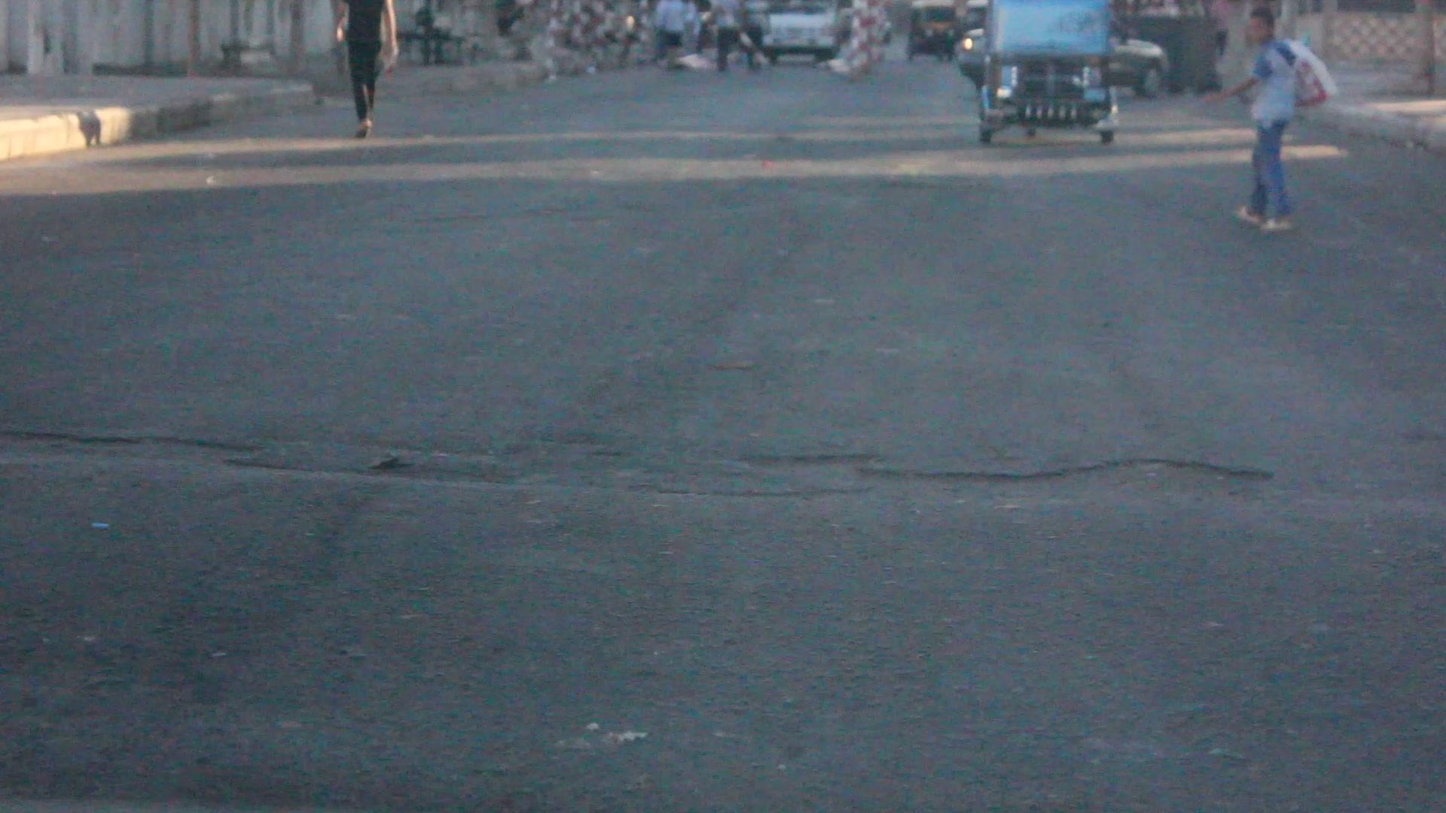Pothole: (6, 410, 1301, 518)
